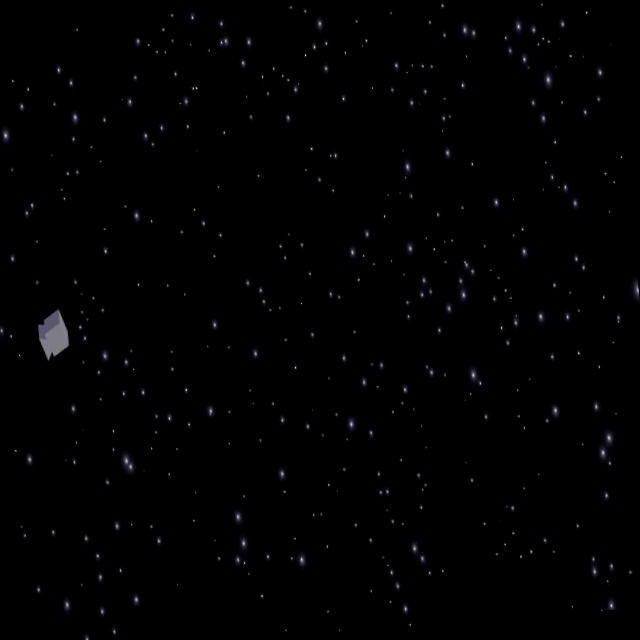large_debris: (32, 303, 77, 372)
